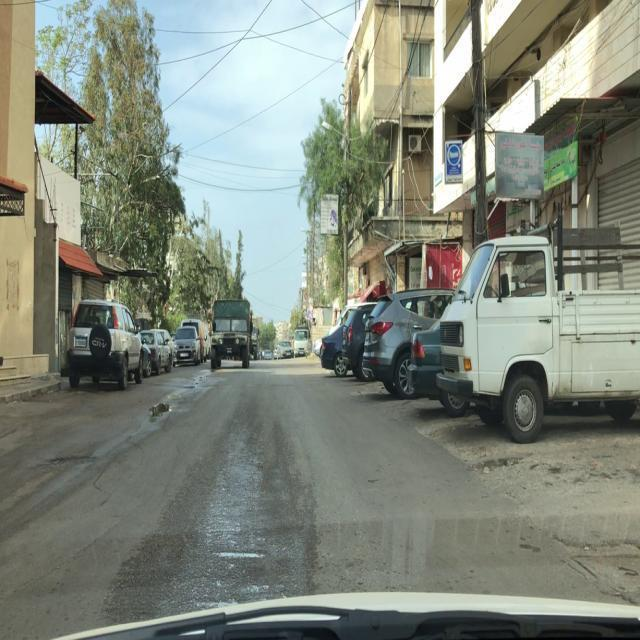pothole: (473, 451, 525, 478)
